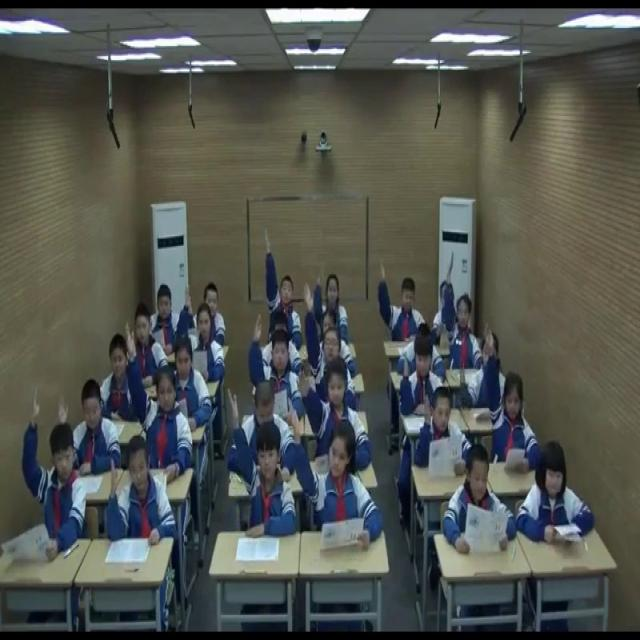focused: (517, 436, 595, 558), (441, 445, 524, 559), (244, 381, 300, 480), (170, 333, 218, 436), (102, 334, 140, 414), (149, 284, 186, 360), (134, 311, 168, 382), (201, 287, 227, 346)
raising_hand: (290, 403, 386, 545), (224, 388, 296, 538), (23, 390, 85, 559), (124, 320, 192, 474), (478, 318, 540, 469), (300, 356, 372, 476), (299, 280, 358, 407), (104, 435, 174, 541), (57, 378, 120, 477), (247, 312, 301, 417), (262, 230, 303, 348), (417, 386, 474, 468), (374, 254, 426, 343), (446, 252, 484, 371), (178, 287, 226, 380), (402, 336, 444, 424), (312, 270, 351, 338)
